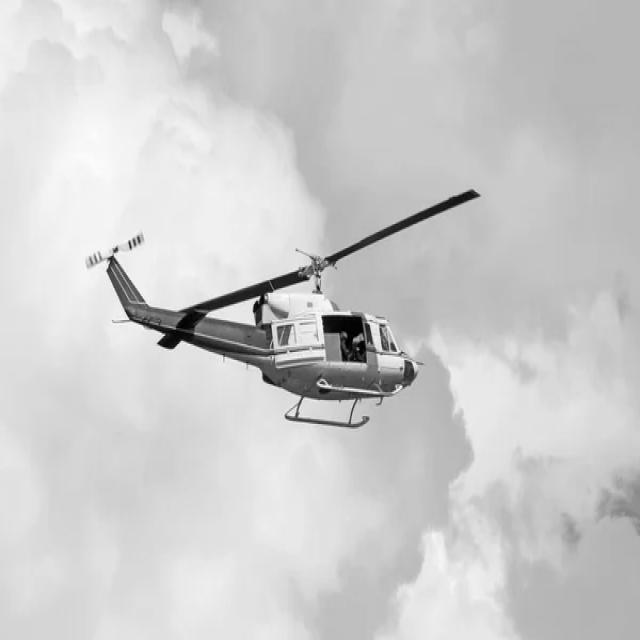Helicopter: (86, 190, 480, 430)
